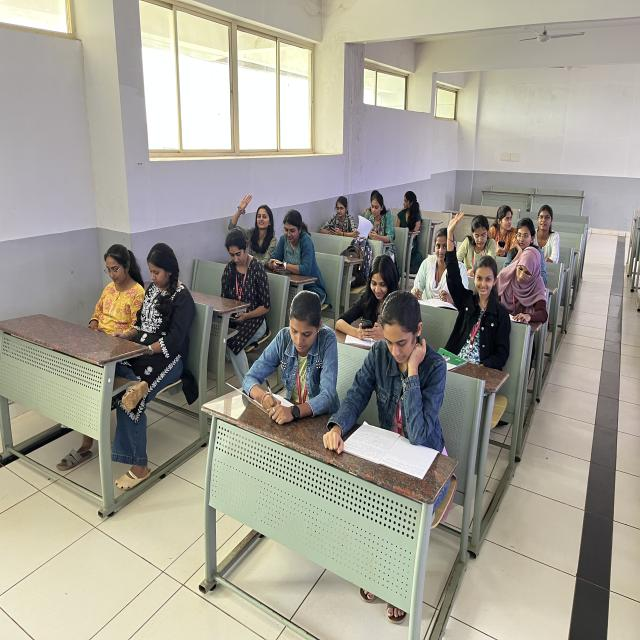Hand Rising: (440, 212, 511, 376), (227, 199, 276, 269)
Reading: (344, 290, 454, 485), (359, 192, 395, 283)
Using Phone: (214, 229, 266, 394), (266, 208, 325, 309), (340, 253, 405, 339)
Writing: (241, 289, 336, 438), (498, 242, 548, 328), (416, 228, 454, 302), (456, 213, 494, 279)
